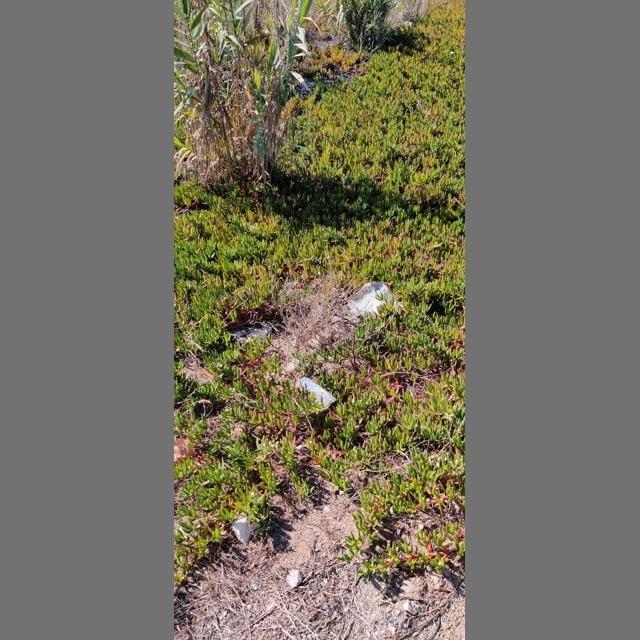litter: (348, 282, 393, 316), (295, 377, 337, 410)
